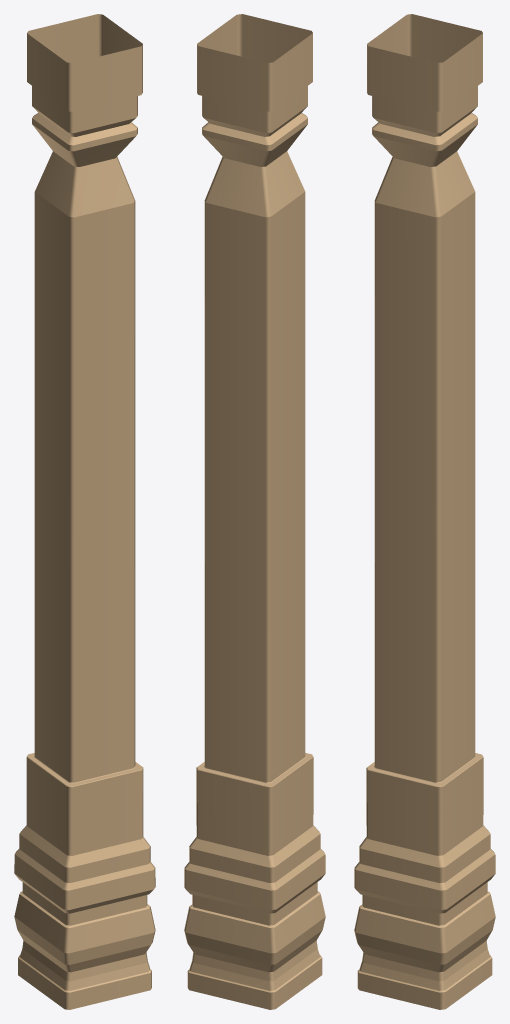
File: smallColumn.fbx
3 renders of one model, left to right at view 1: azimuth 30°, elevation 25°; view 2: azimuth 150°, elevation 25°; view 3: azimuth 330°, elevation 25°, orthographic.
Parts seen in each view (by area): view 1: Small_Column; view 2: Small_Column; view 3: Small_Column.
Part boxes in pixels (x1=…): Small_Column: x1=14, y1=14, x2=155, y2=1009; Small_Column: x1=184, y1=14, x2=325, y2=1009; Small_Column: x1=354, y1=14, x2=495, y2=1009.
Size of the model in its own units: 0.5745 by 5.61 by 0.5745.
